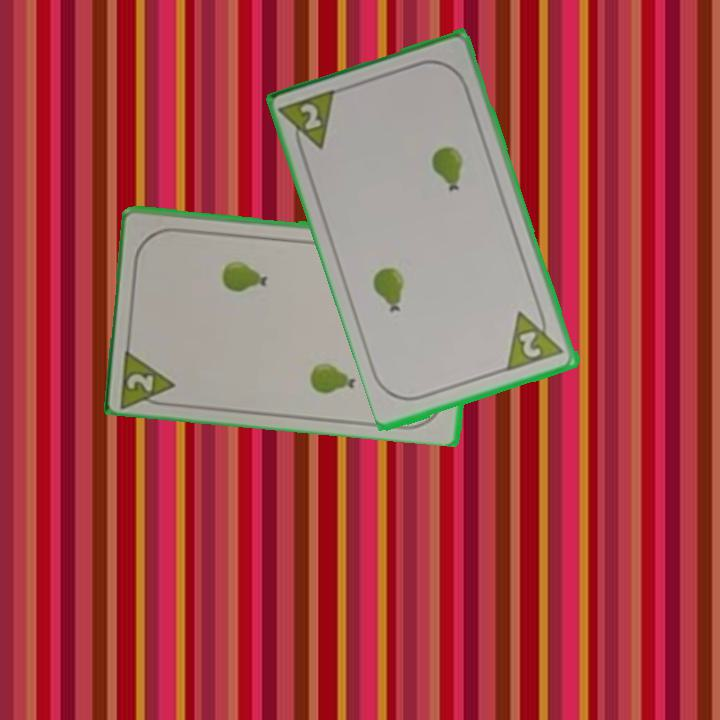2p: (278, 85, 341, 160), (117, 342, 179, 409), (516, 328, 545, 361)
